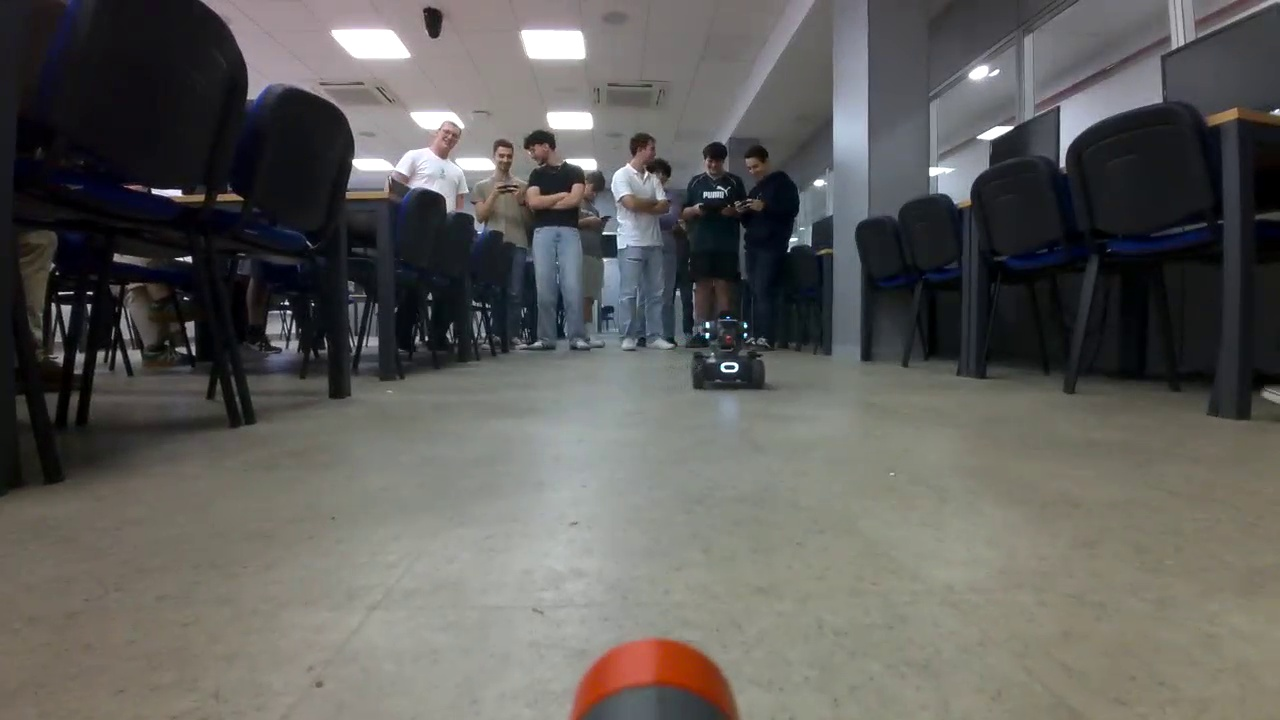robot: (690, 314, 767, 410)
